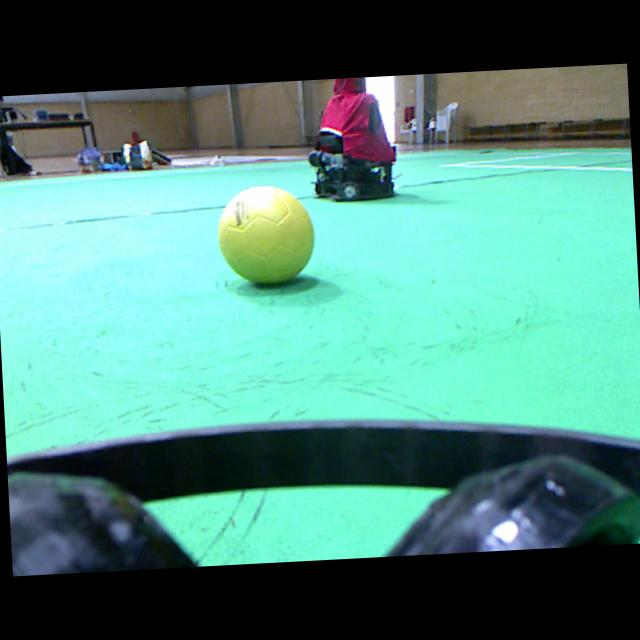ball: (218, 186, 313, 283)
